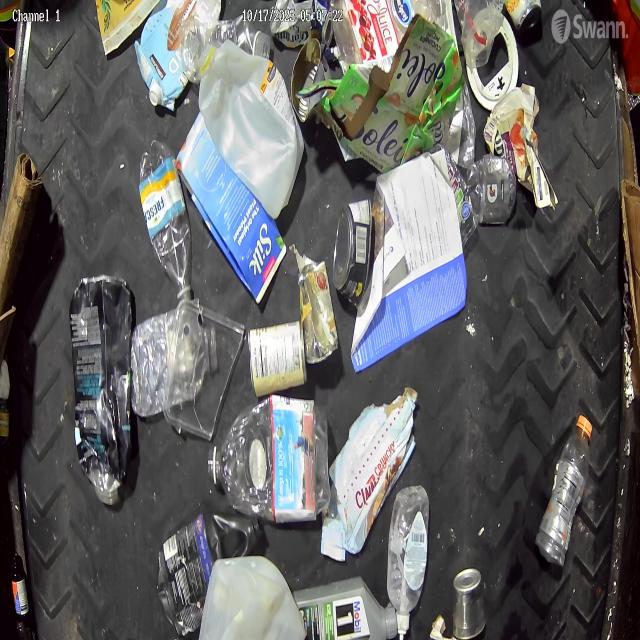can: (296, 256, 338, 366), (247, 320, 307, 394), (333, 196, 373, 307), (290, 36, 328, 123), (451, 566, 486, 640), (501, 1, 541, 31)
milk_jug: (194, 41, 304, 219), (198, 555, 304, 640)
plastic_bottle: (211, 395, 325, 525), (139, 143, 192, 296), (536, 417, 590, 560)
